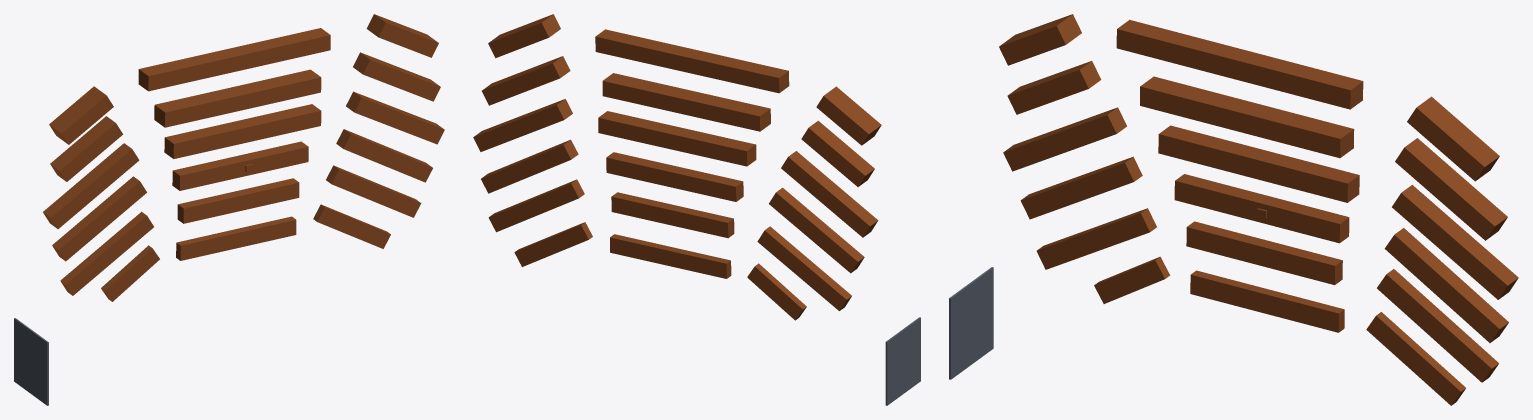
The model's file is obstacles_combined.obj.
The picture shows the model from 3 angles, left to right: view 1: azimuth 30°, elevation 25°; view 2: azimuth 150°, elevation 25°; view 3: azimuth 330°, elevation 25°; orthographic projection. The views are drawn at different scales.
Parts seen in each view (by area): view 1: desk_mid_06, desk_mid_05, desk_mid_04, desk_mid_03, desk_mid_02, desk_left_04, desk_mid_01, desk_left_03, door, desk_left_02, desk_right_04, desk_left_05 (+7 smaller); view 2: desk_mid_06, desk_mid_05, desk_mid_04, desk_mid_03, desk_mid_02, desk_left_04, desk_mid_01, desk_left_03, door, desk_left_02, desk_right_04, desk_left_05 (+7 smaller); view 3: desk_mid_06, desk_mid_05, desk_mid_04, desk_mid_03, desk_right_04, desk_mid_02, desk_right_03, desk_right_05, desk_mid_01, desk_right_02, door, desk_right_06 (+7 smaller).
Part boxes in pixels (x1,y1,x2,y2): desk_mid_06: [138, 28, 330, 91]; desk_mid_05: [154, 69, 321, 127]; desk_mid_04: [164, 104, 321, 158]; desk_mid_03: [172, 141, 308, 190]; desk_mid_02: [177, 178, 299, 223]; desk_left_04: [43, 143, 139, 228]; desk_mid_01: [176, 216, 296, 260]; desk_left_03: [52, 176, 146, 261]; door: [14, 318, 48, 405]; desk_left_02: [60, 211, 153, 295]; desk_right_04: [346, 91, 444, 144]; desk_left_05: [50, 116, 122, 181]; desk_mid_06: [595, 29, 789, 93]; desk_mid_05: [602, 73, 770, 131]; desk_mid_04: [598, 111, 756, 166]; desk_mid_03: [606, 152, 743, 201]; desk_mid_02: [611, 192, 734, 238]; desk_left_04: [781, 151, 878, 237]; desk_mid_01: [610, 234, 731, 278]; desk_left_03: [769, 187, 864, 273]; door: [885, 317, 920, 405]; desk_left_02: [757, 226, 851, 310]; desk_right_04: [473, 99, 572, 151]; desk_left_05: [801, 120, 874, 186]; desk_mid_06: [1116, 19, 1363, 109]; desk_mid_05: [1140, 76, 1354, 158]; desk_mid_04: [1158, 125, 1359, 202]; desk_mid_03: [1174, 174, 1349, 243]; desk_right_04: [1392, 185, 1518, 299]; desk_mid_02: [1186, 221, 1342, 285]; desk_right_03: [1384, 228, 1508, 342]; desk_right_05: [1395, 138, 1507, 240]; desk_mid_01: [1190, 270, 1344, 332]; desk_right_02: [1377, 269, 1498, 382]; door: [949, 267, 993, 379]; desk_right_06: [1407, 96, 1499, 181].
Bounding box in the file's own units: 14.4 × 9.6 × 2.
